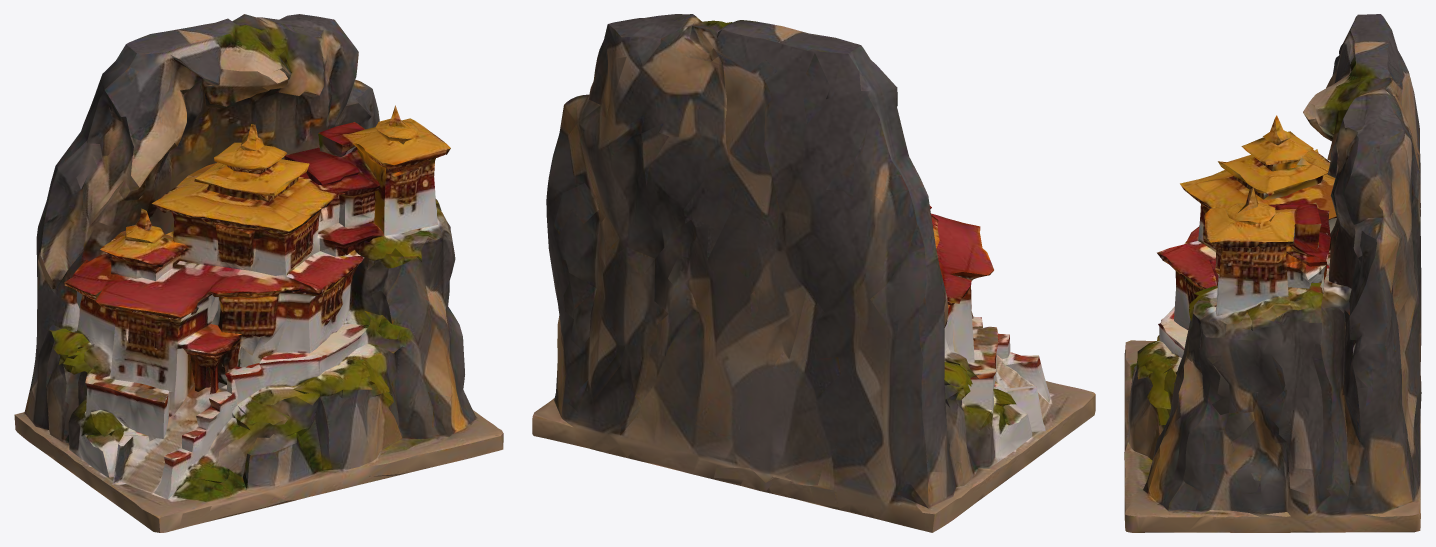
Rendered from paro-taktsang.glb.
The picture shows the model from 3 angles, left to right: view 1: azimuth 30°, elevation 25°; view 2: azimuth 150°, elevation 25°; view 3: azimuth 270°, elevation 25°; orthographic projection. The views are drawn at different scales.
Parts seen in each view (by area): view 1: logan-textured.obj; view 2: logan-textured.obj; view 3: logan-textured.obj.
Part boxes in pixels (<box>): logan-textured.obj: <box>14,14,503,532</box>; logan-textured.obj: <box>532,14,1095,532</box>; logan-textured.obj: <box>1124,14,1421,532</box>.
Size of the model in its own units: 0.9858 by 1 by 0.6902.
1 material, 1 textured.
